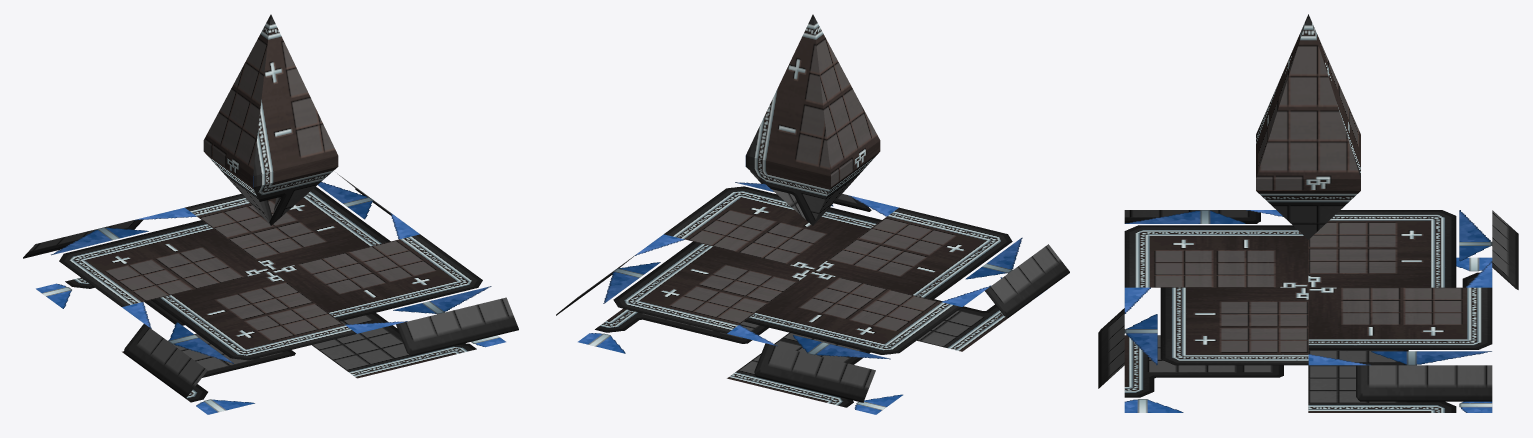
The model's file is seer_stone_inventory.obj.
3 views of the same model, side by side, from view 1: azimuth 30°, elevation 25°; view 2: azimuth 150°, elevation 25°; view 3: azimuth 270°, elevation 25° (orthographic). The views are drawn at different scales.
Parts seen in each view (by area): view 1: Base_Cube, Crystal_Cube.001, Band_Cube.003; view 2: Base_Cube, Crystal_Cube.001, Band_Cube.003; view 3: Base_Cube, Crystal_Cube.001, Band_Cube.003.
Part boxes in pixels (<box>): Base_Cube: <box>23,173,518,414</box>; Crystal_Cube.001: <box>204,14,337,225</box>; Band_Cube.003: <box>203,140,338,187</box>; Base_Cube: <box>556,171,1069,414</box>; Crystal_Cube.001: <box>746,14,879,225</box>; Band_Cube.003: <box>745,140,880,187</box>; Base_Cube: <box>1098,210,1518,412</box>; Crystal_Cube.001: <box>1256,14,1360,239</box>; Band_Cube.003: <box>1256,179,1360,190</box>.
Bounding box in the file's own units: 1 × 0.8438 × 1.
